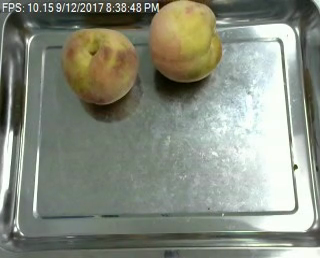Peach: (149, 0, 222, 84), (61, 27, 138, 105)
